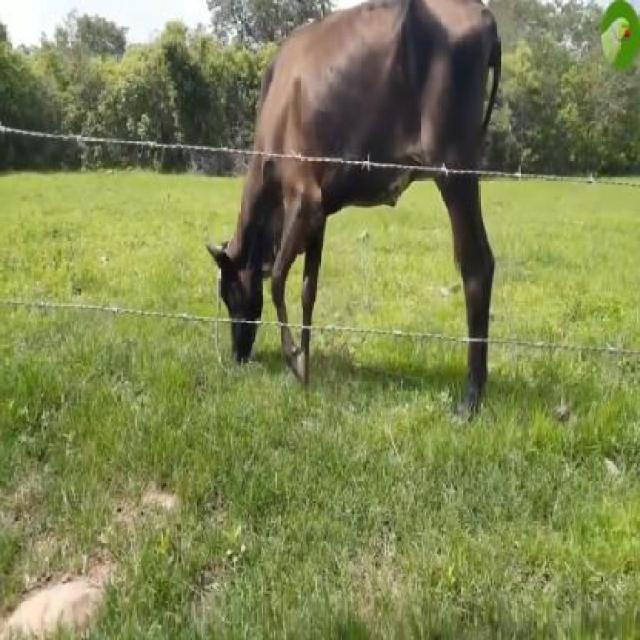Cow: (206, 0, 500, 414)
